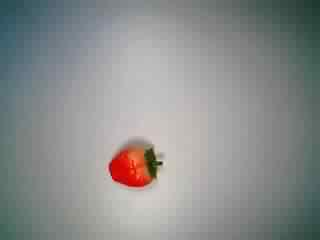strawberry: (104, 130, 164, 198)
